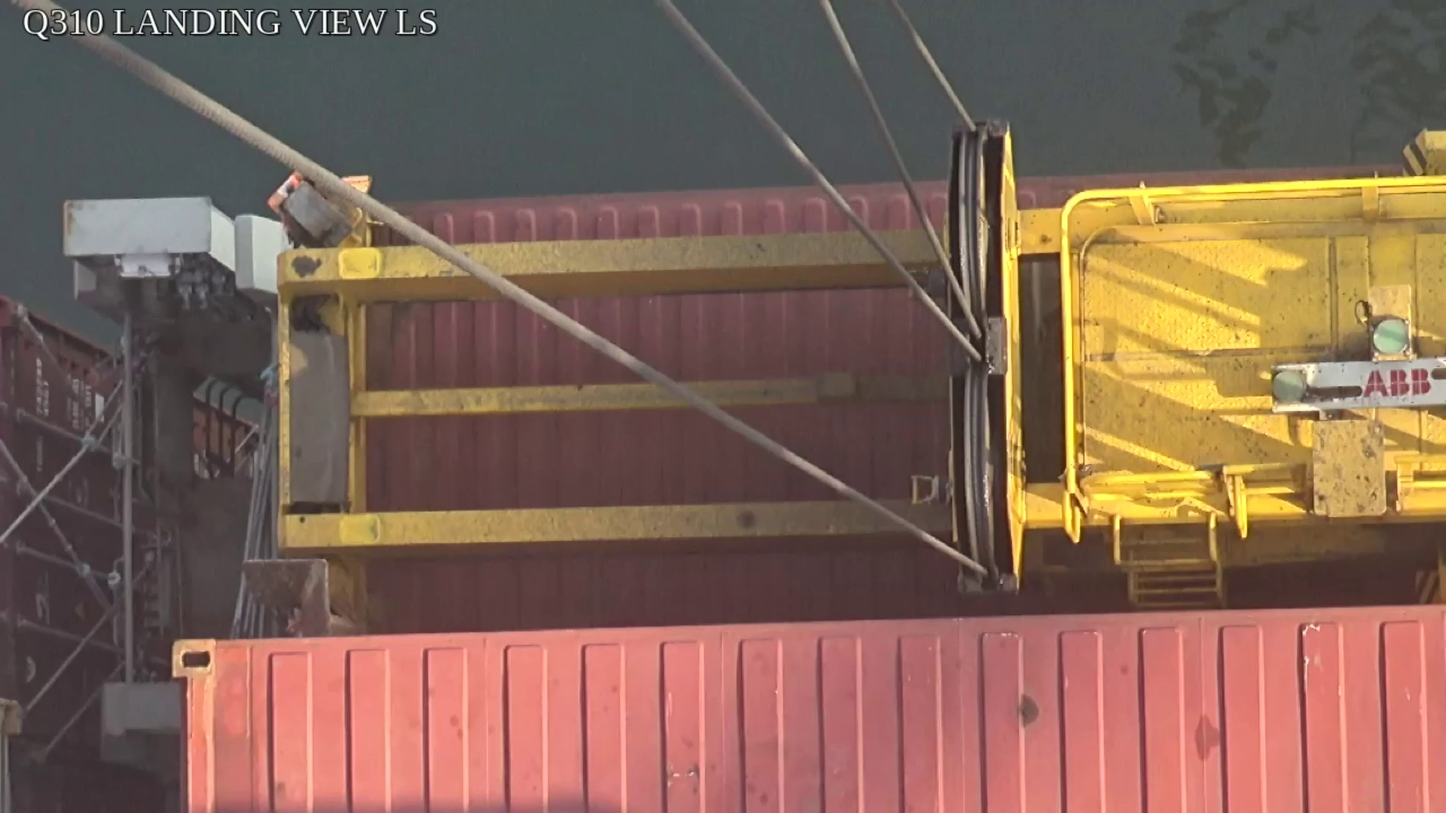left_gear: (950, 119, 1025, 595)
